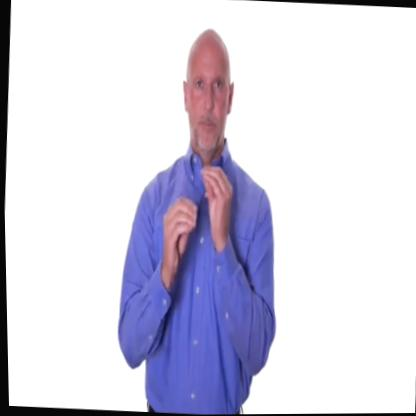Fix: (152, 145, 240, 279)
